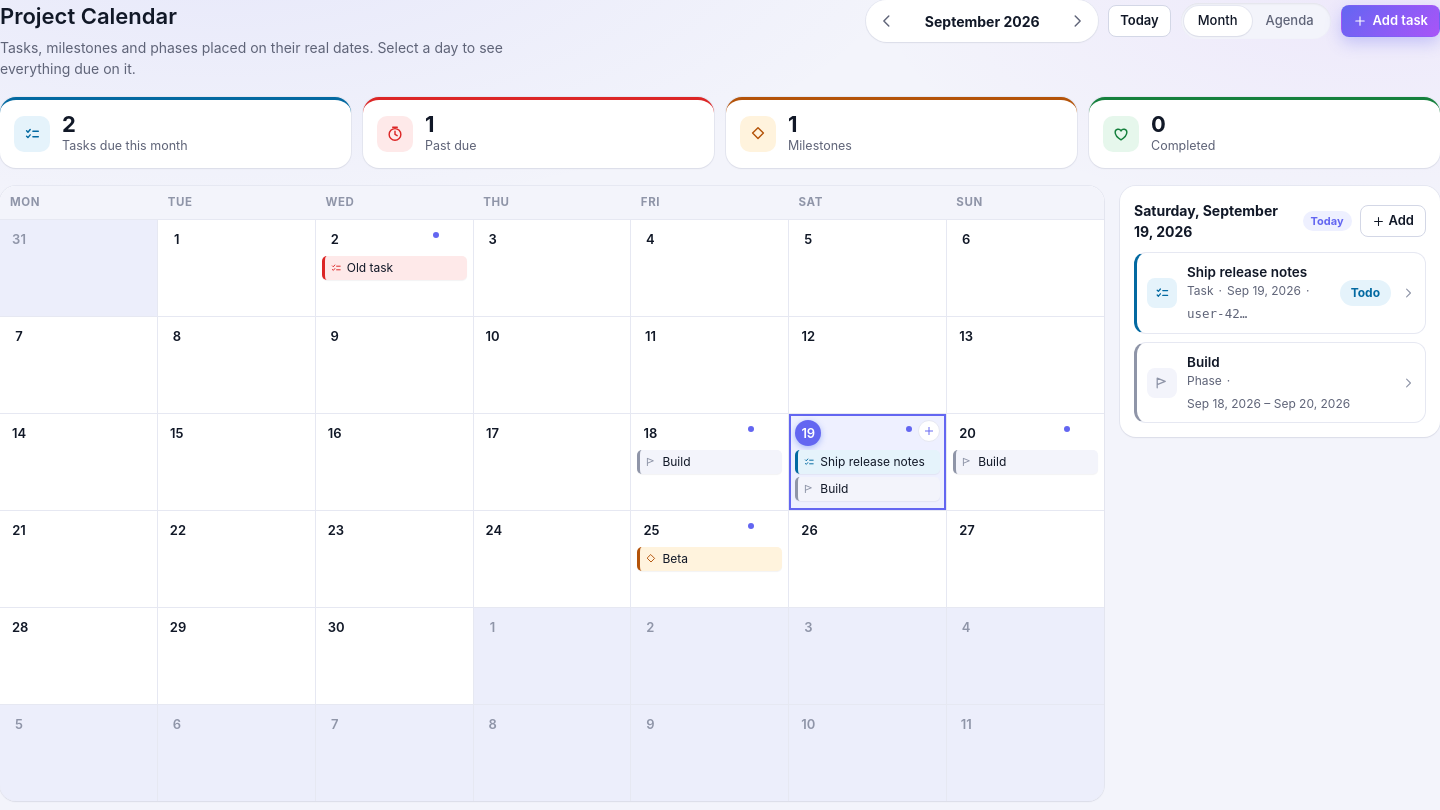
Test case: CalendarTab › selecting a day updates the side panel; selecting an event opens details linking to the task page
The width and height of the screenshot is (1440, 810).
expect the table is shown: met, box left=0, top=186, right=1104, bottom=801
Click the 1st button "2" at (335,239), box left=322, top=226, right=348, bottom=252
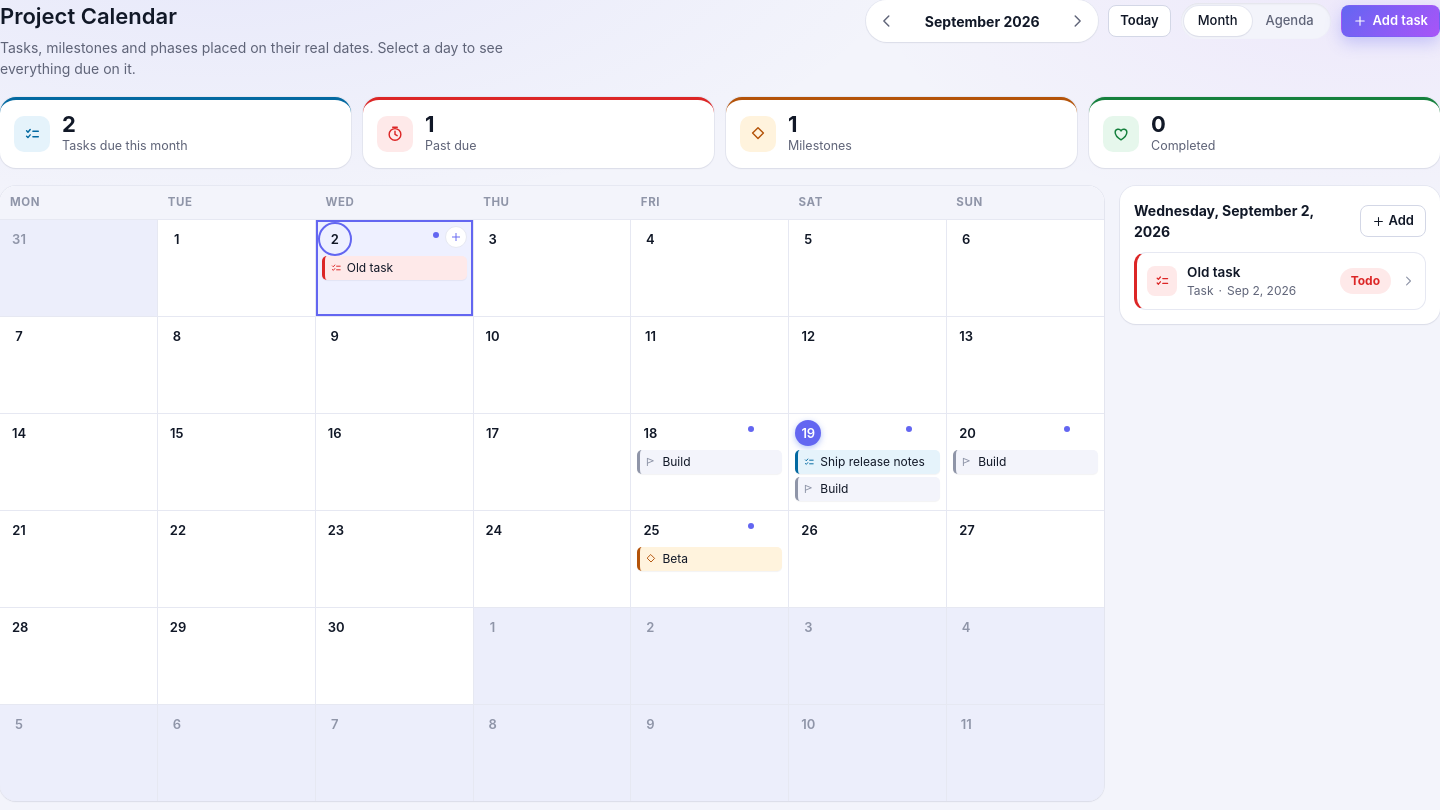
expect the element named "Selected day" shows "Old task": met
Click the button "Old task Task · Sep 2, 2026 Todo" at (1280,281), box left=1134, top=252, right=1426, bottom=310
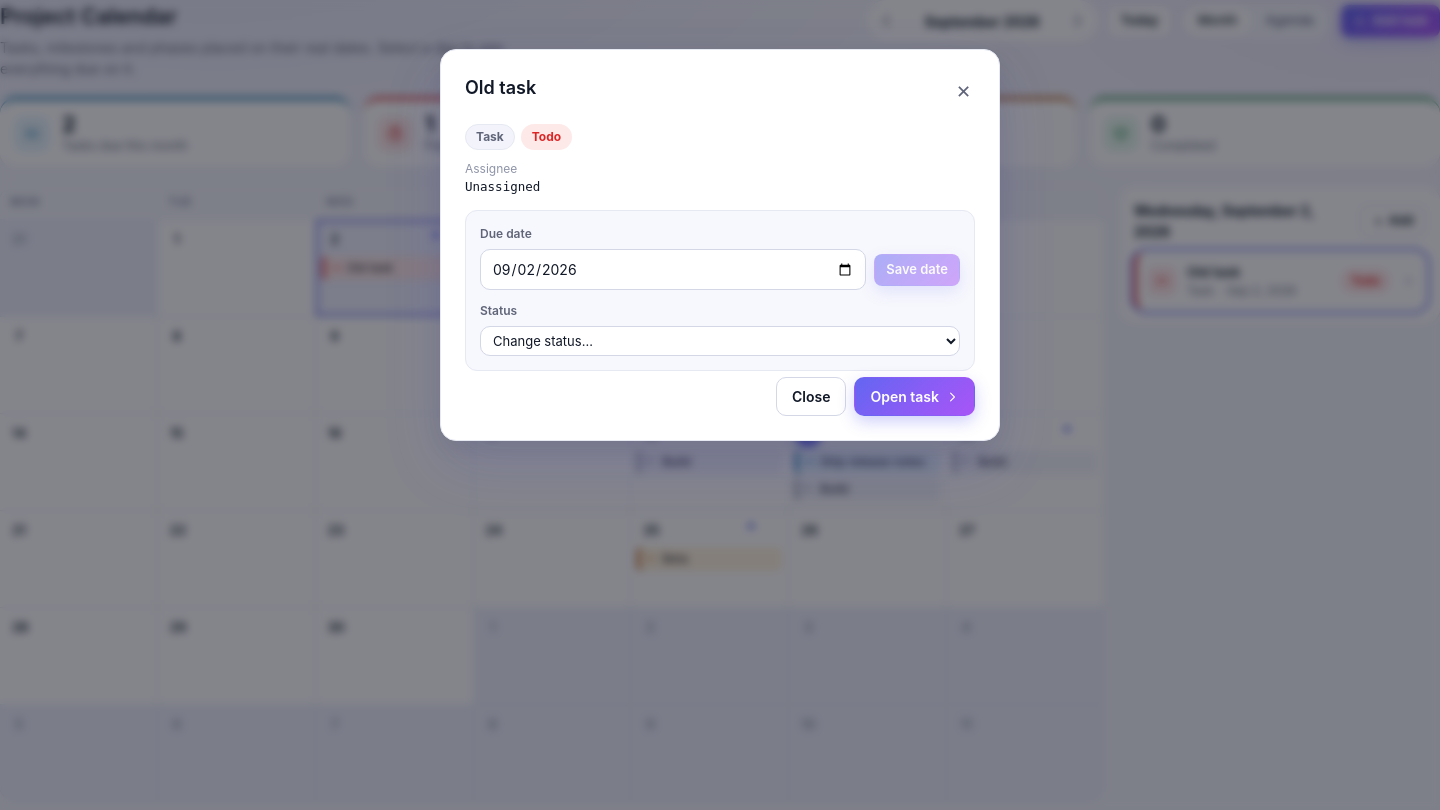
expect the dialog shows "Old task": met, box left=465, top=77, right=536, bottom=98
